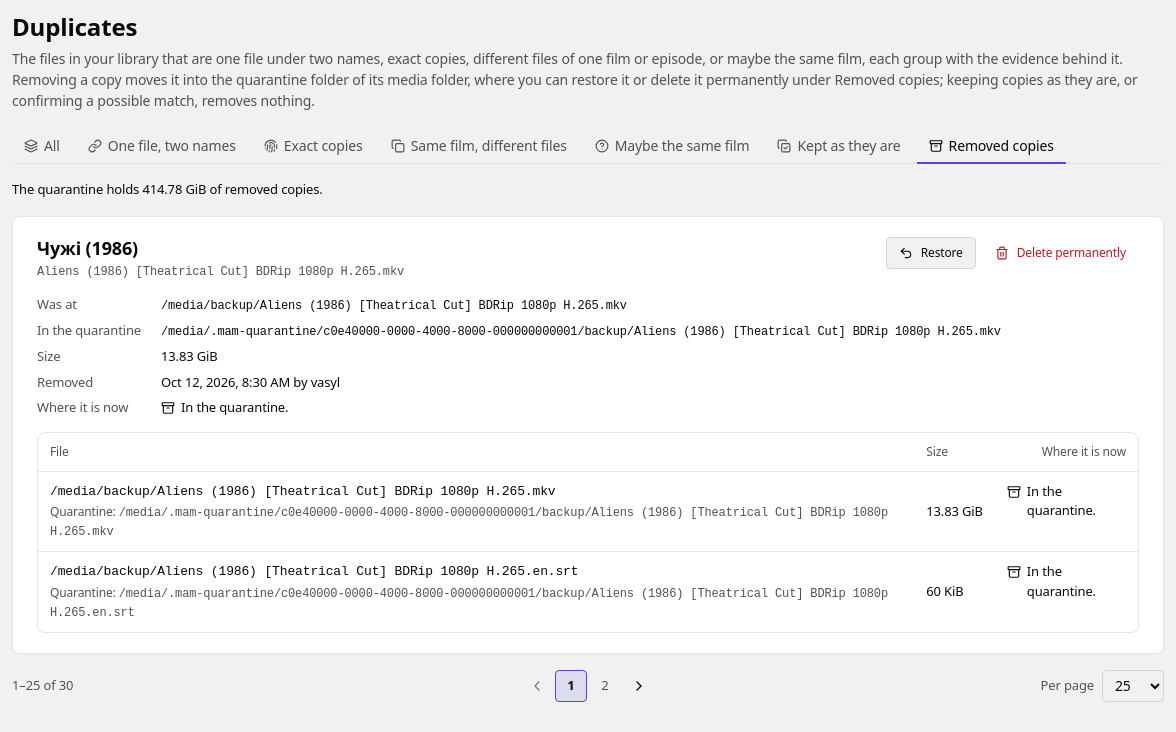
Test: DuplicatesPage Removed copies › pages through the server's removals and asks for the page size picked, from page 1
This screenshot has width=1176, height=732.
Expected: the text "1–25 of 30" is shown, [12,676,73,695]
Click the button named "Next page": [639, 686] box [623,670,655,702]
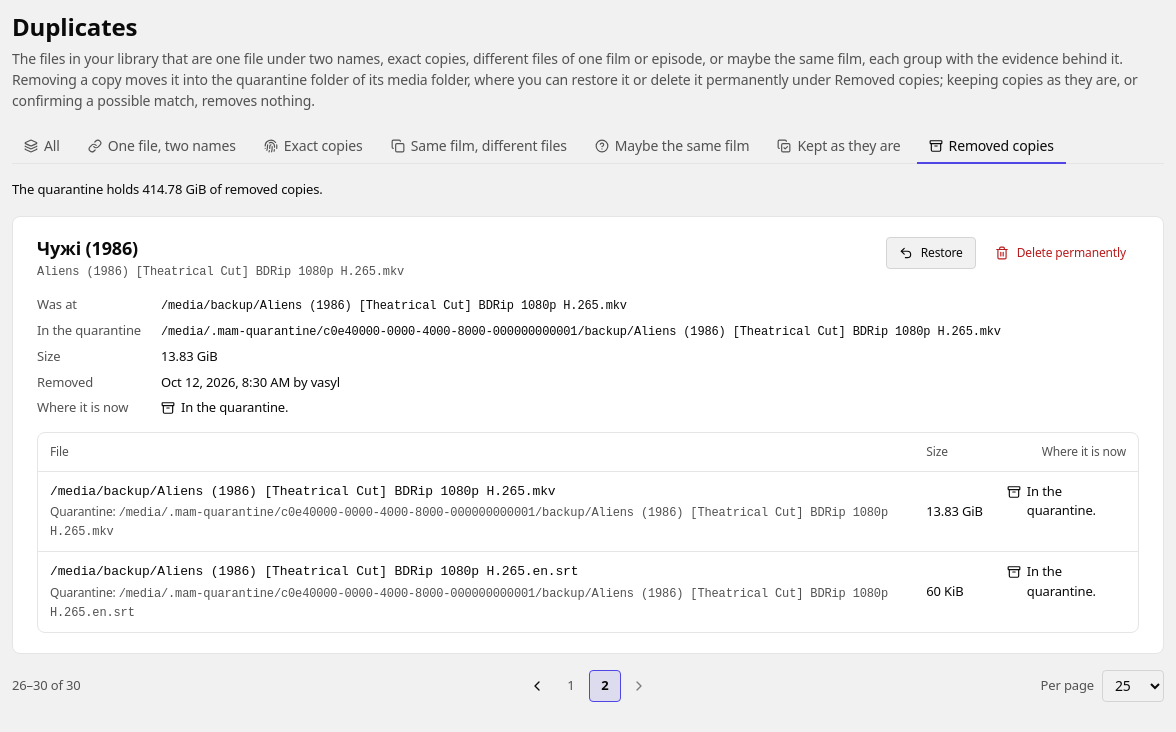
Result: the text "26–30 of 30" is shown at [12,676,81,695]
Select "10" in the dropdown labelled "Per page": [1133, 686] box [1102,670,1164,702]
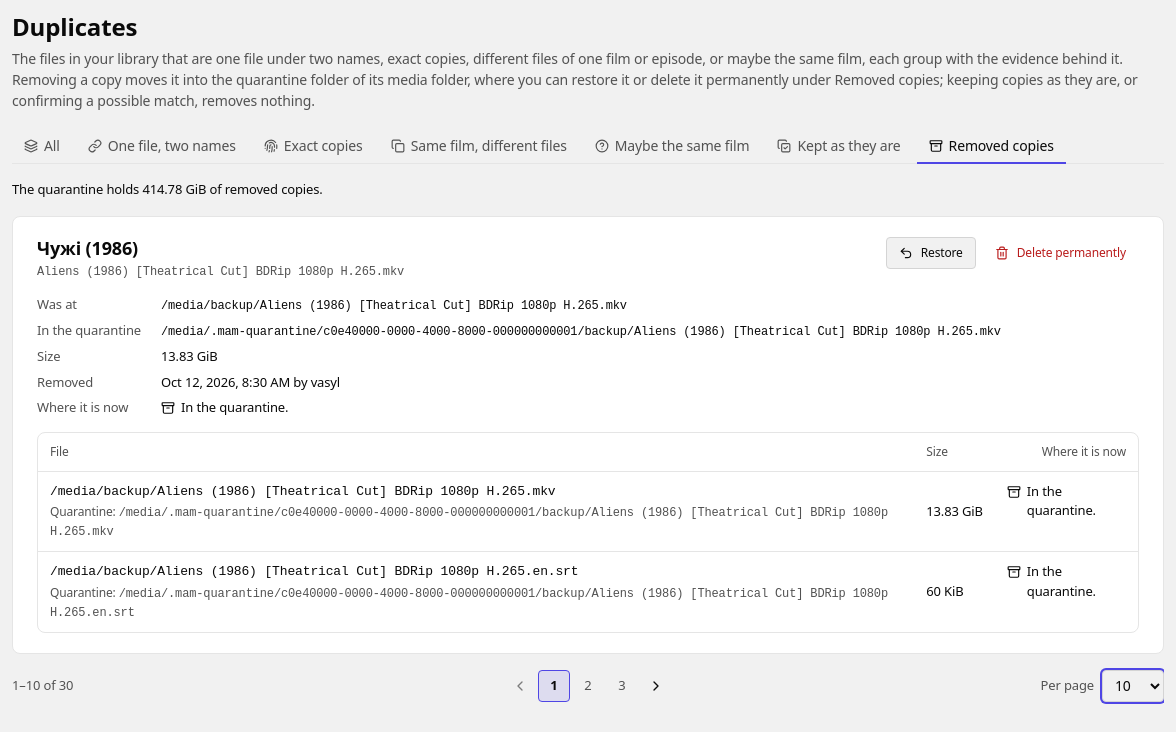
Result: the text "1–10 of 30" is shown at [12,676,73,695]
